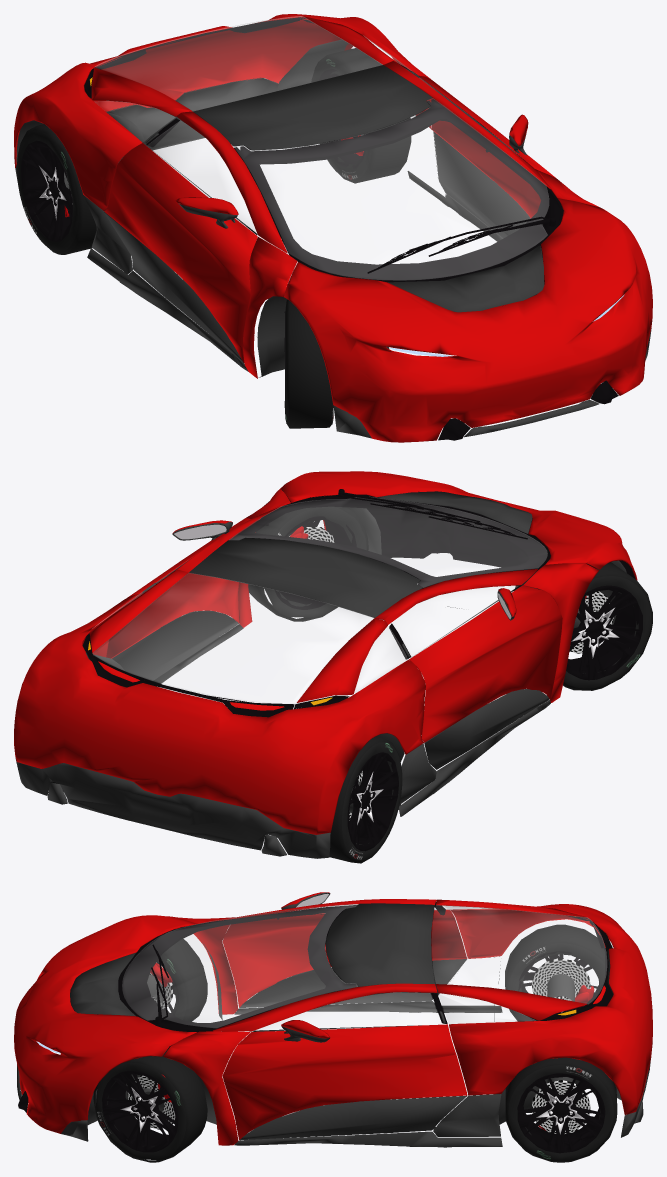
File: car.glb
3 views of the same model, one above another, from view 1: azimuth 30°, elevation 25°; view 2: azimuth 150°, elevation 25°; view 3: azimuth 270°, elevation 25° (orthographic). The views are drawn at different scales.
Visible parts, largest first — view 1: BodyRearPanelsColor1, BodyWindshield, BodyRoofPanel, BodyWindshieldGasket, object 13, WheelFrontLRim, BodyUnderside; view 2: BodyRearPanelsColor1, BodyWindshield, BodyRoofPanel, BodyWindshieldGasket, WheelFrontLRim, object 13, BodyUnderside, WheelFrontLBrakeDisc, BodyDoorRMirror; view 3: BodyRearPanelsColor1, BodyWindshield, BodyRoofPanel, object 13, WheelFrontLRim, BodyWindshieldGasket, WheelFrontLBrakeDisc, BodyUnderside, WheelFrontLBrakePad.
Part boxes in pixels (left/top/right/bottom): BodyRearPanelsColor1: left=14, top=14, right=652, bottom=442; BodyWindshield: left=94, top=16, right=548, bottom=280; BodyRoofPanel: left=15, top=65, right=651, bottom=438; BodyWindshieldGasket: left=84, top=17, right=618, bottom=440; object 13: left=17, top=48, right=600, bottom=428; WheelFrontLRim: left=21, top=69, right=366, bottom=413; BodyUnderside: left=16, top=39, right=543, bottom=377; BodyRearPanelsColor1: left=14, top=471, right=637, bottom=834; BodyWindshield: left=92, top=497, right=547, bottom=703; BodyRoofPanel: left=15, top=491, right=550, bottom=858; BodyWindshieldGasket: left=82, top=489, right=635, bottom=717; WheelFrontLRim: left=275, top=516, right=642, bottom=851; object 13: left=51, top=501, right=652, bottom=863; BodyUnderside: left=47, top=507, right=626, bottom=856; WheelFrontLBrakeDisc: left=289, top=527, right=613, bottom=820; BodyDoorRMirror: left=174, top=524, right=511, bottom=619; BodyRearPanelsColor1: left=14, top=892, right=652, bottom=1145; BodyWindshield: left=122, top=904, right=606, bottom=1031; BodyRoofPanel: left=17, top=892, right=650, bottom=1147; object 13: left=93, top=924, right=617, bottom=1162; WheelFrontLRim: left=102, top=951, right=605, bottom=1153; BodyWindshieldGasket: left=18, top=901, right=613, bottom=1112; WheelFrontLBrakeDisc: left=127, top=958, right=590, bottom=1133; BodyUnderside: left=87, top=942, right=643, bottom=1129; WheelFrontLBrakePad: left=150, top=963, right=594, bottom=1130.
Size of the model in its own units: 2.54 by 1.15 by 4.36.
Materials: 15 (4 with a texture image).
